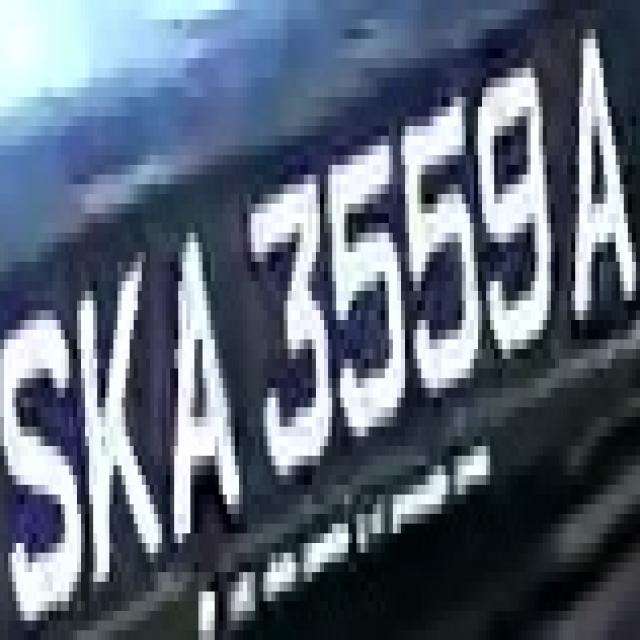3: (231, 155, 332, 495)
5: (397, 78, 482, 436), (324, 117, 401, 476)
9: (470, 39, 567, 378)
A: (146, 214, 243, 592), (563, 29, 636, 359)
K: (61, 233, 158, 630)
S: (4, 252, 85, 621)
